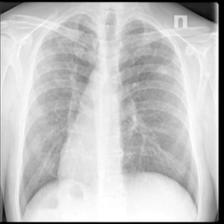tuberculosis: (12, 7, 204, 220)
